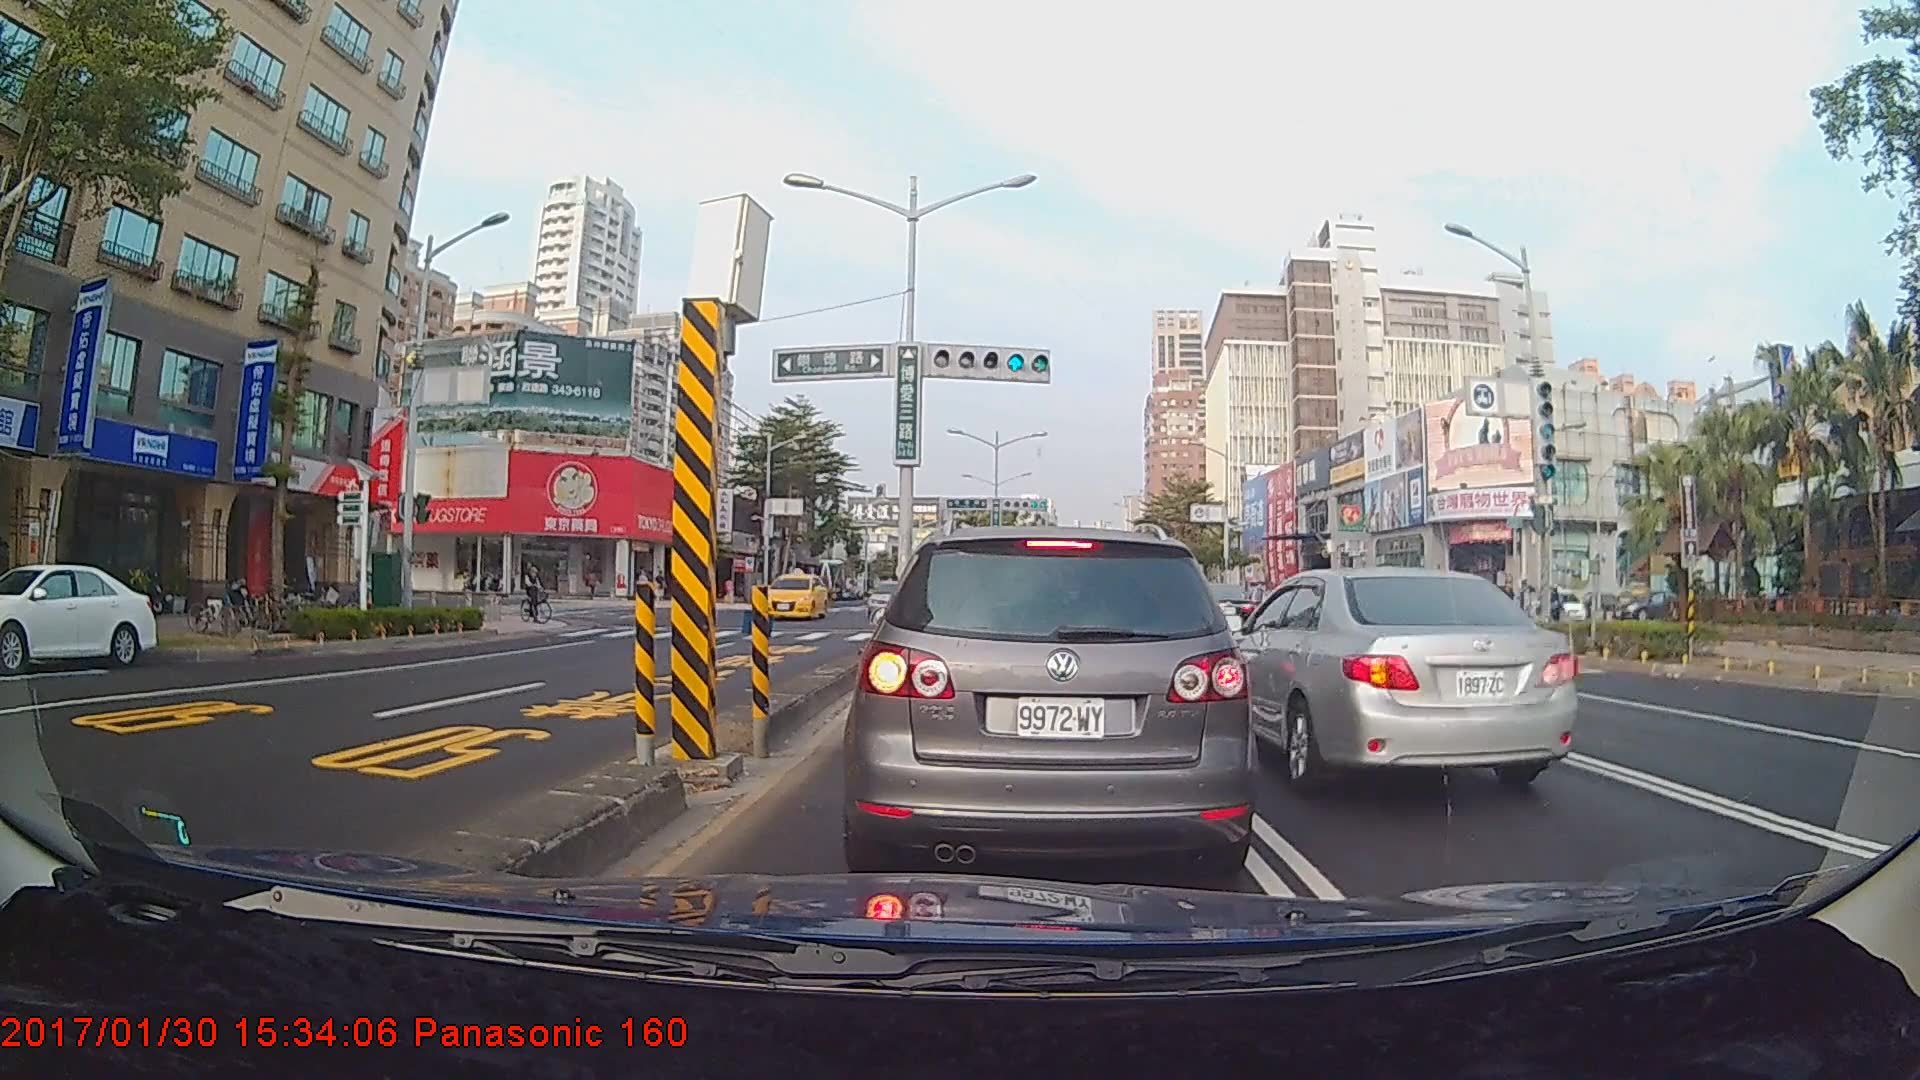rider: (518, 559, 561, 629)
vehicle: (852, 522, 1246, 877), (1192, 564, 1583, 801), (0, 561, 162, 671), (1185, 580, 1260, 641), (758, 575, 827, 623)
